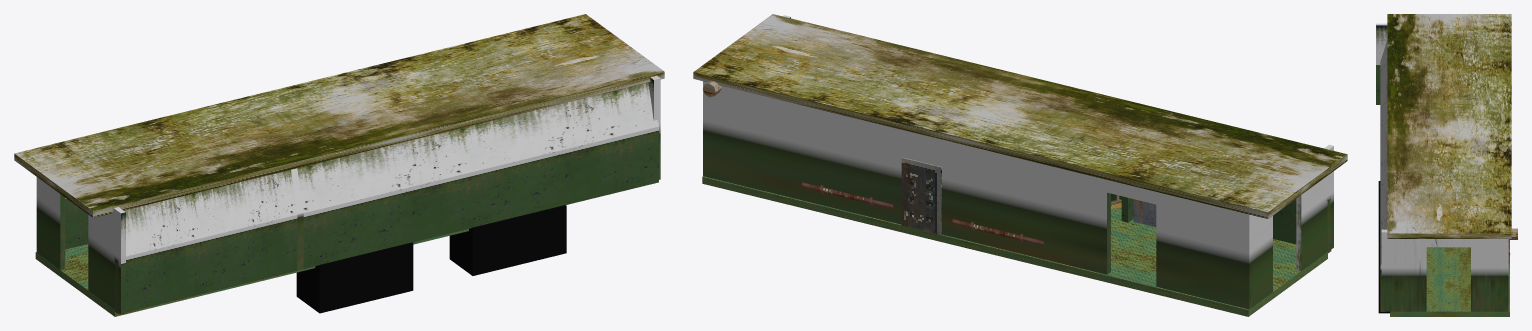
File: corridor2.fbx
The picture shows the model from 3 angles, left to right: view 1: azimuth 30°, elevation 25°; view 2: azimuth 150°, elevation 25°; view 3: azimuth 270°, elevation 25°; orthographic projection. The views are drawn at different scales.
Visible parts, largest first — view 1: wall_exterior, ceiling, wall_interior, Cube.008, Cube.009, floor; view 2: wall_interior, ceiling, floor, screen, wall_exterior, desk, reservoir, reservoir.001; view 3: ceiling, wall_interior, floor, wall_exterior, Cube.009, Cube.008.
Part boxes in pixels (x1,y1,x2,y2): wall_exterior: [109, 82, 658, 314]; ceiling: [14, 14, 664, 217]; wall_interior: [36, 75, 660, 314]; Cube.008: [296, 242, 413, 313]; Cube.009: [449, 205, 566, 275]; floor: [35, 229, 468, 316]; wall_interior: [703, 15, 1333, 309]; ceiling: [693, 14, 1347, 218]; floor: [702, 176, 1327, 316]; screen: [901, 157, 941, 234]; wall_exterior: [1111, 175, 1331, 253]; desk: [1133, 199, 1156, 226]; reservoir: [952, 219, 1043, 245]; reservoir.001: [801, 182, 893, 209]; ceiling: [1387, 14, 1511, 238]; wall_interior: [1376, 23, 1508, 311]; floor: [1390, 240, 1509, 316]; wall_exterior: [1380, 40, 1387, 311]; Cube.009: [1378, 240, 1389, 313]; Cube.008: [1378, 181, 1380, 239].
Size of the model in its own units: 1757 by 447 by 480.
Materials: 21 (19 with a texture image).
